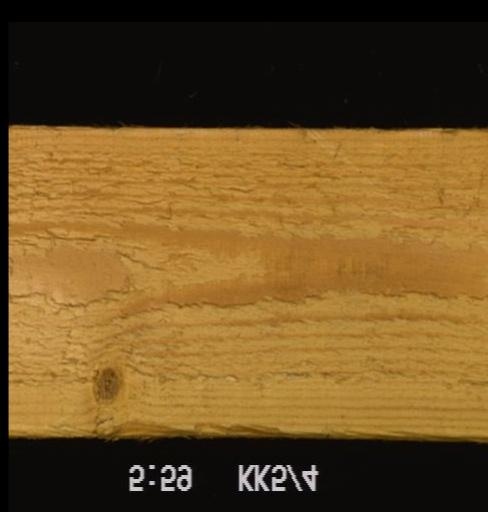sound_knot: (84, 362, 129, 408)
wave: (87, 416, 351, 438)
